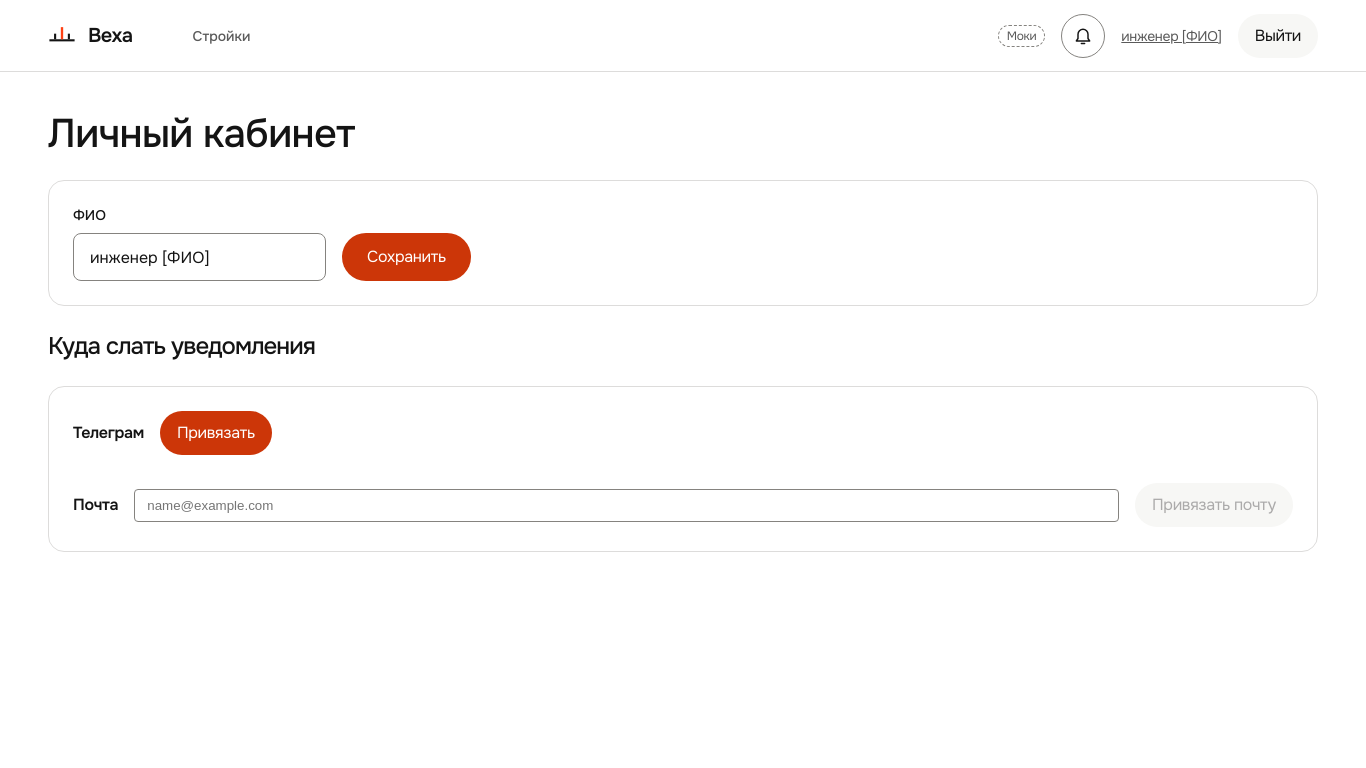
Test: Личный кабинет › почта › ошибку сервера показывает под строкой
The width and height of the screenshot is (1366, 768).
Type "ivan@example.com" into the field named "Адрес почты" at (627, 505), box 134,488 -> 1119,522
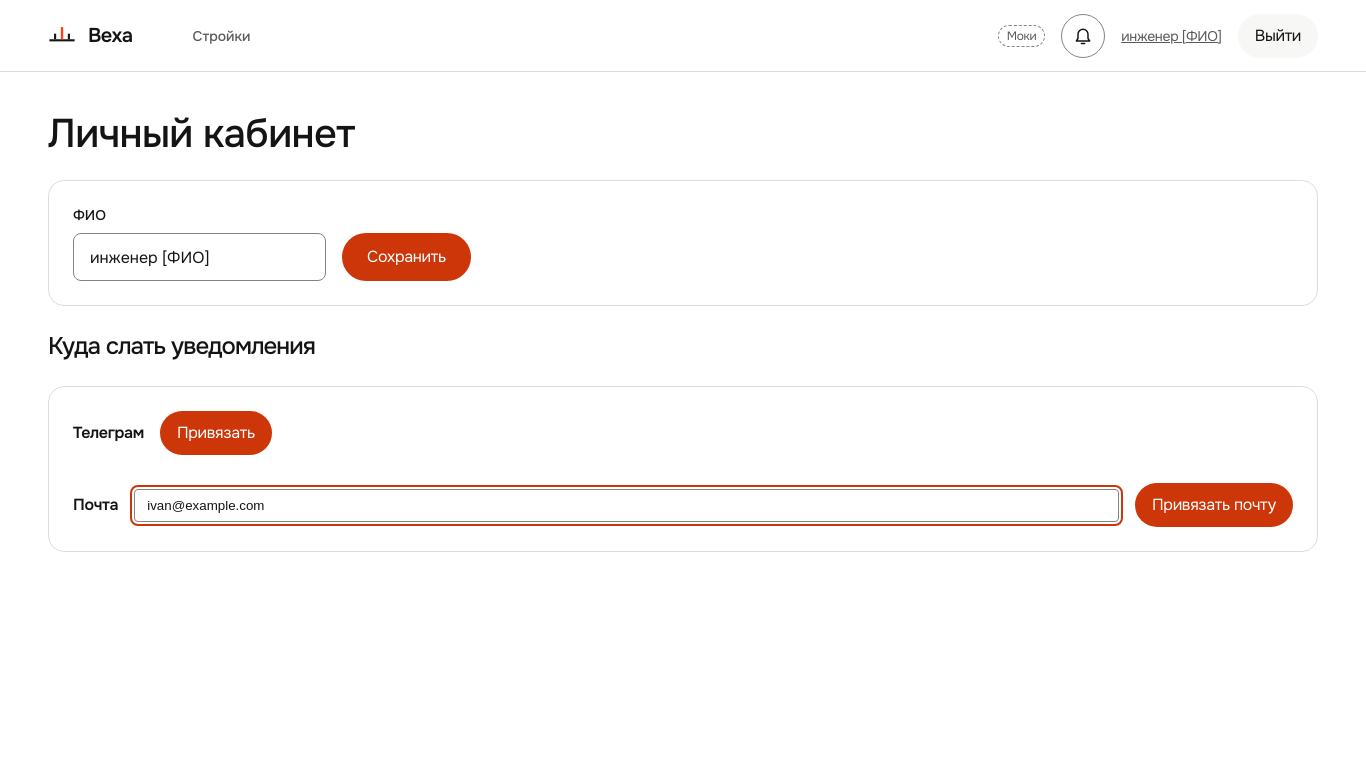
Click the button "Привязать почту" at (1214, 505), box 1135,483 -> 1293,527
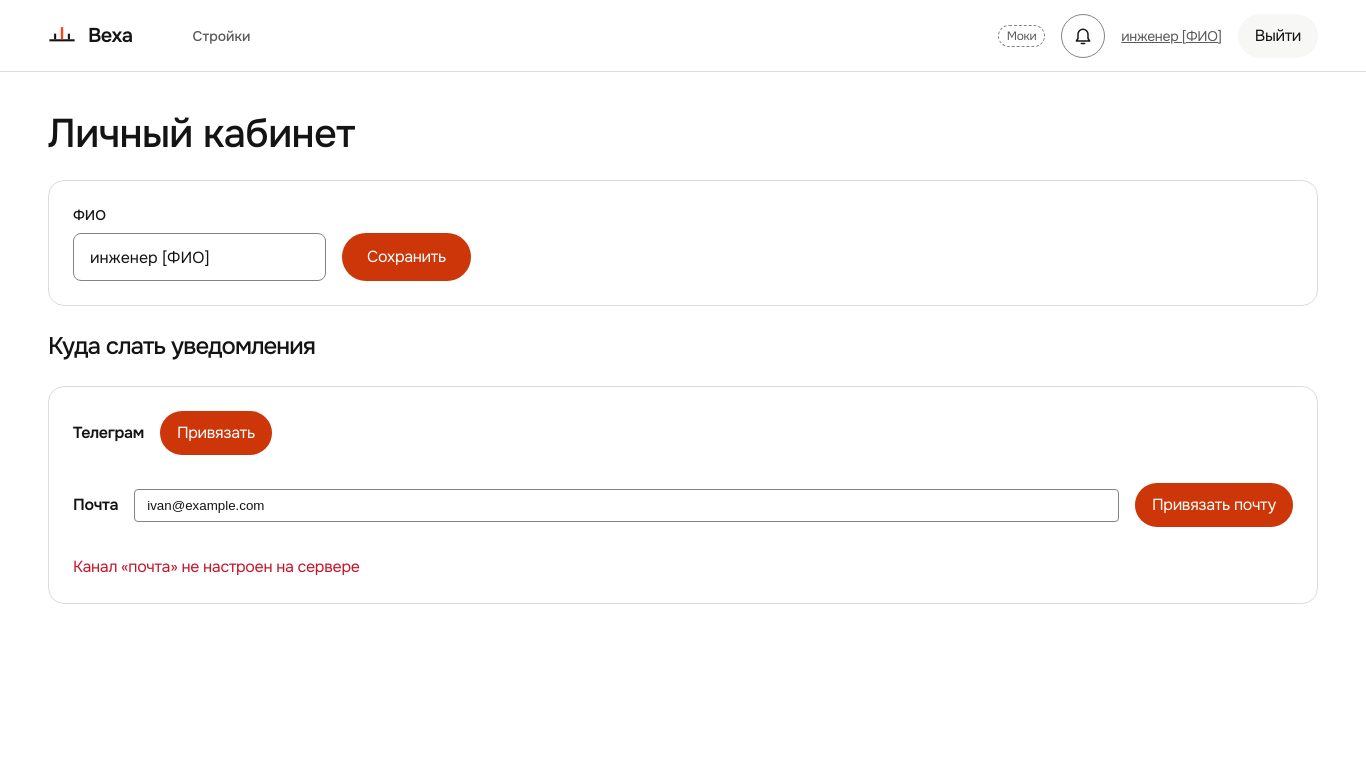
Now the text "Канал «почта» не настроен на сервере" is shown, box 73,556 -> 360,577
